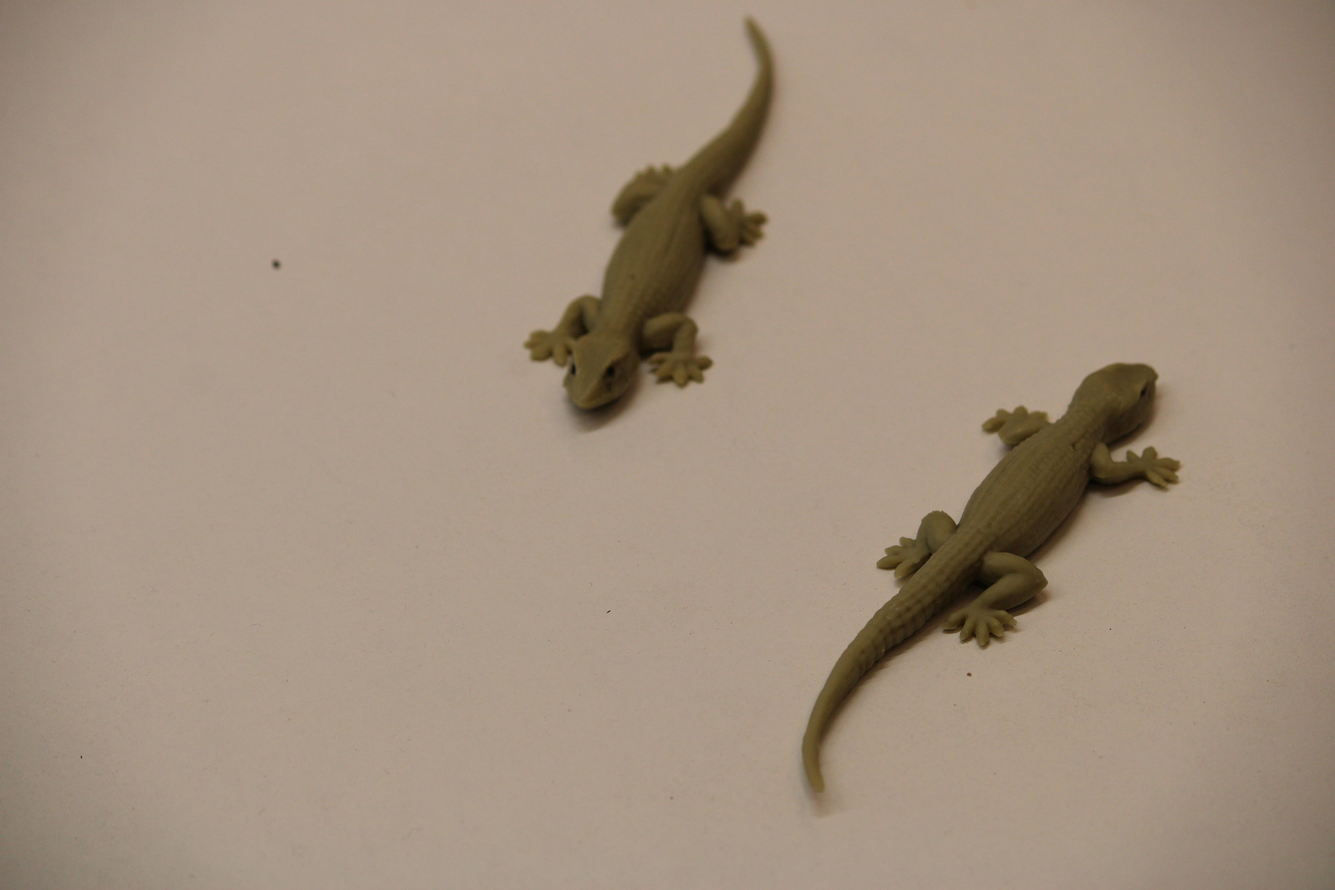lizard: (797, 355, 1181, 824), (494, 14, 784, 420)
